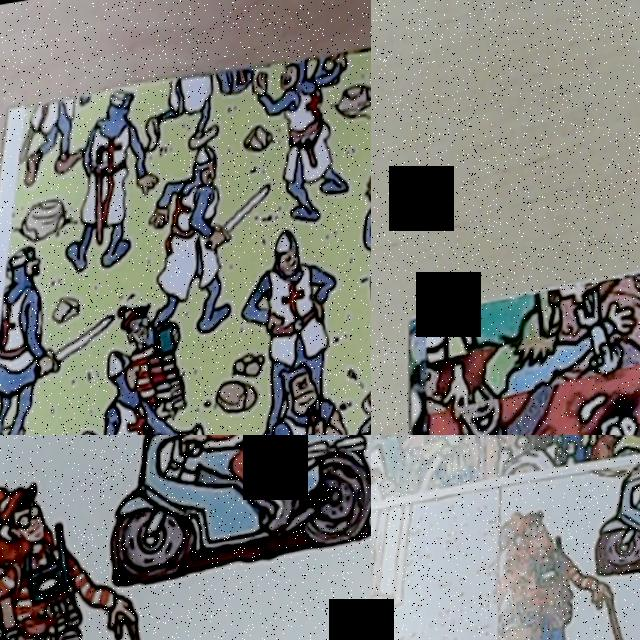waldo: (0, 470, 56, 561), (561, 376, 640, 435), (116, 294, 171, 361), (510, 510, 558, 563)
